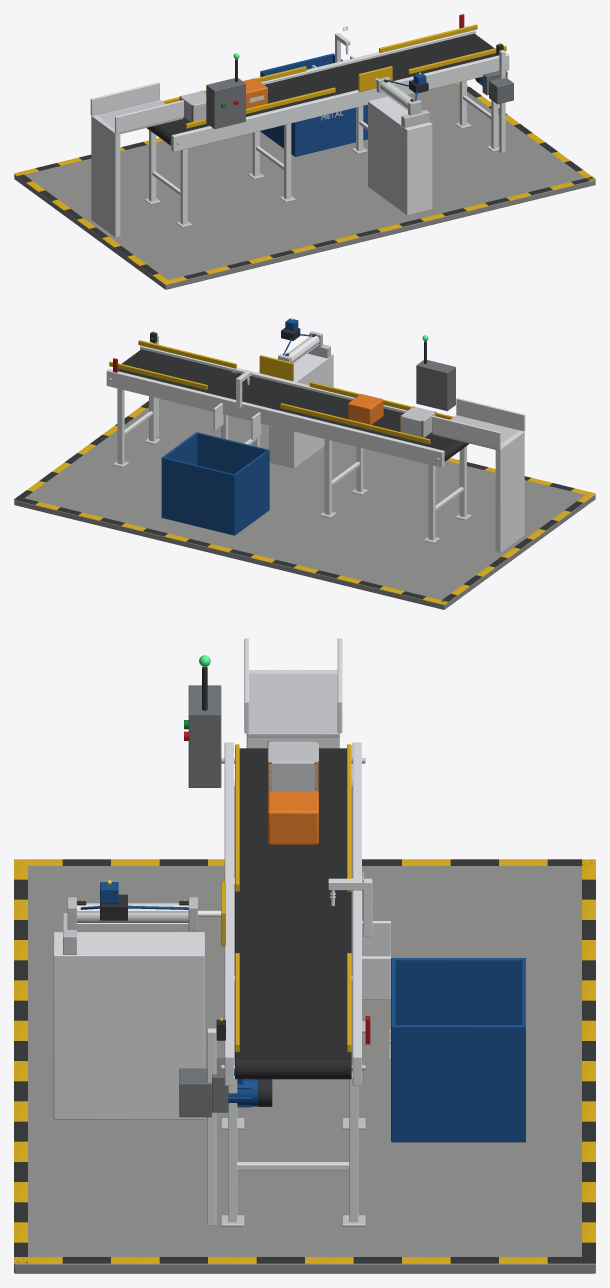
Rendered from machine_sort.glb.
3 renders of one model, top to bottom at view 1: azimuth 30°, elevation 25°; view 2: azimuth 150°, elevation 25°; view 3: azimuth 270°, elevation 25°, orthographic. The views are drawn at different scales.
Parts seen in each view (by area): view 1: frame, proto_metal_mesh, proto_plastic_mesh, rod_mesh; view 2: frame, proto_plastic_mesh, proto_metal_mesh, rod_mesh; view 3: frame, proto_plastic_mesh, proto_metal_mesh.
Part boxes in pixels (<box>): frame: <box>14,14,595,289</box>; proto_metal_mesh: <box>179,90,206,121</box>; proto_plastic_mesh: <box>243,78,267,108</box>; rod_mesh: <box>358,66,392,92</box>; frame: <box>14,318,595,609</box>; proto_plastic_mesh: <box>348,394,383,424</box>; proto_metal_mesh: <box>400,406,436,437</box>; rod_mesh: <box>259,355,293,381</box>; frame: <box>14,638,595,1273</box>; proto_plastic_mesh: <box>267,791,318,844</box>; proto_metal_mesh: <box>267,741,318,792</box>.
Size of the model in its own units: 4.1 by 1.56 by 2.5.
